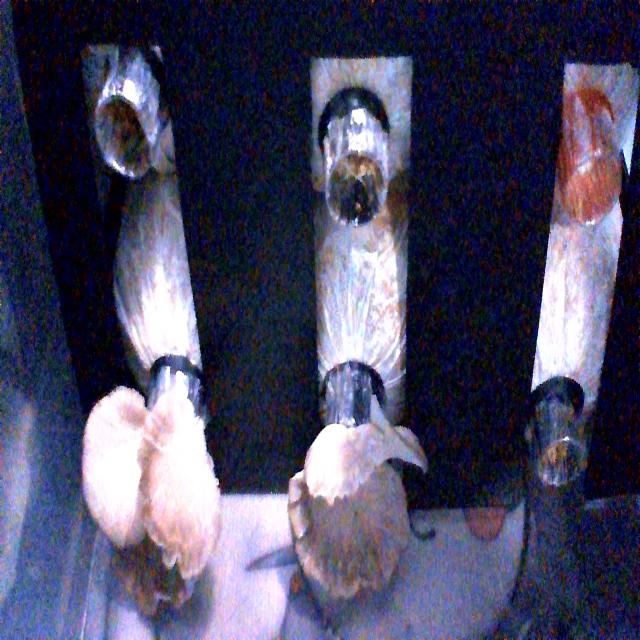big: (82, 341, 224, 585), (291, 394, 422, 596)
nfound: (314, 129, 392, 246), (88, 86, 158, 188), (561, 135, 618, 240), (540, 409, 590, 502)
